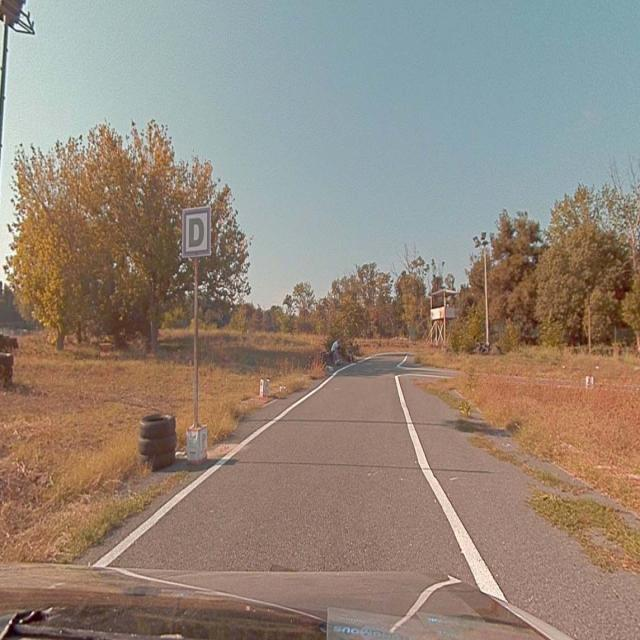durak: (181, 206, 211, 257)
